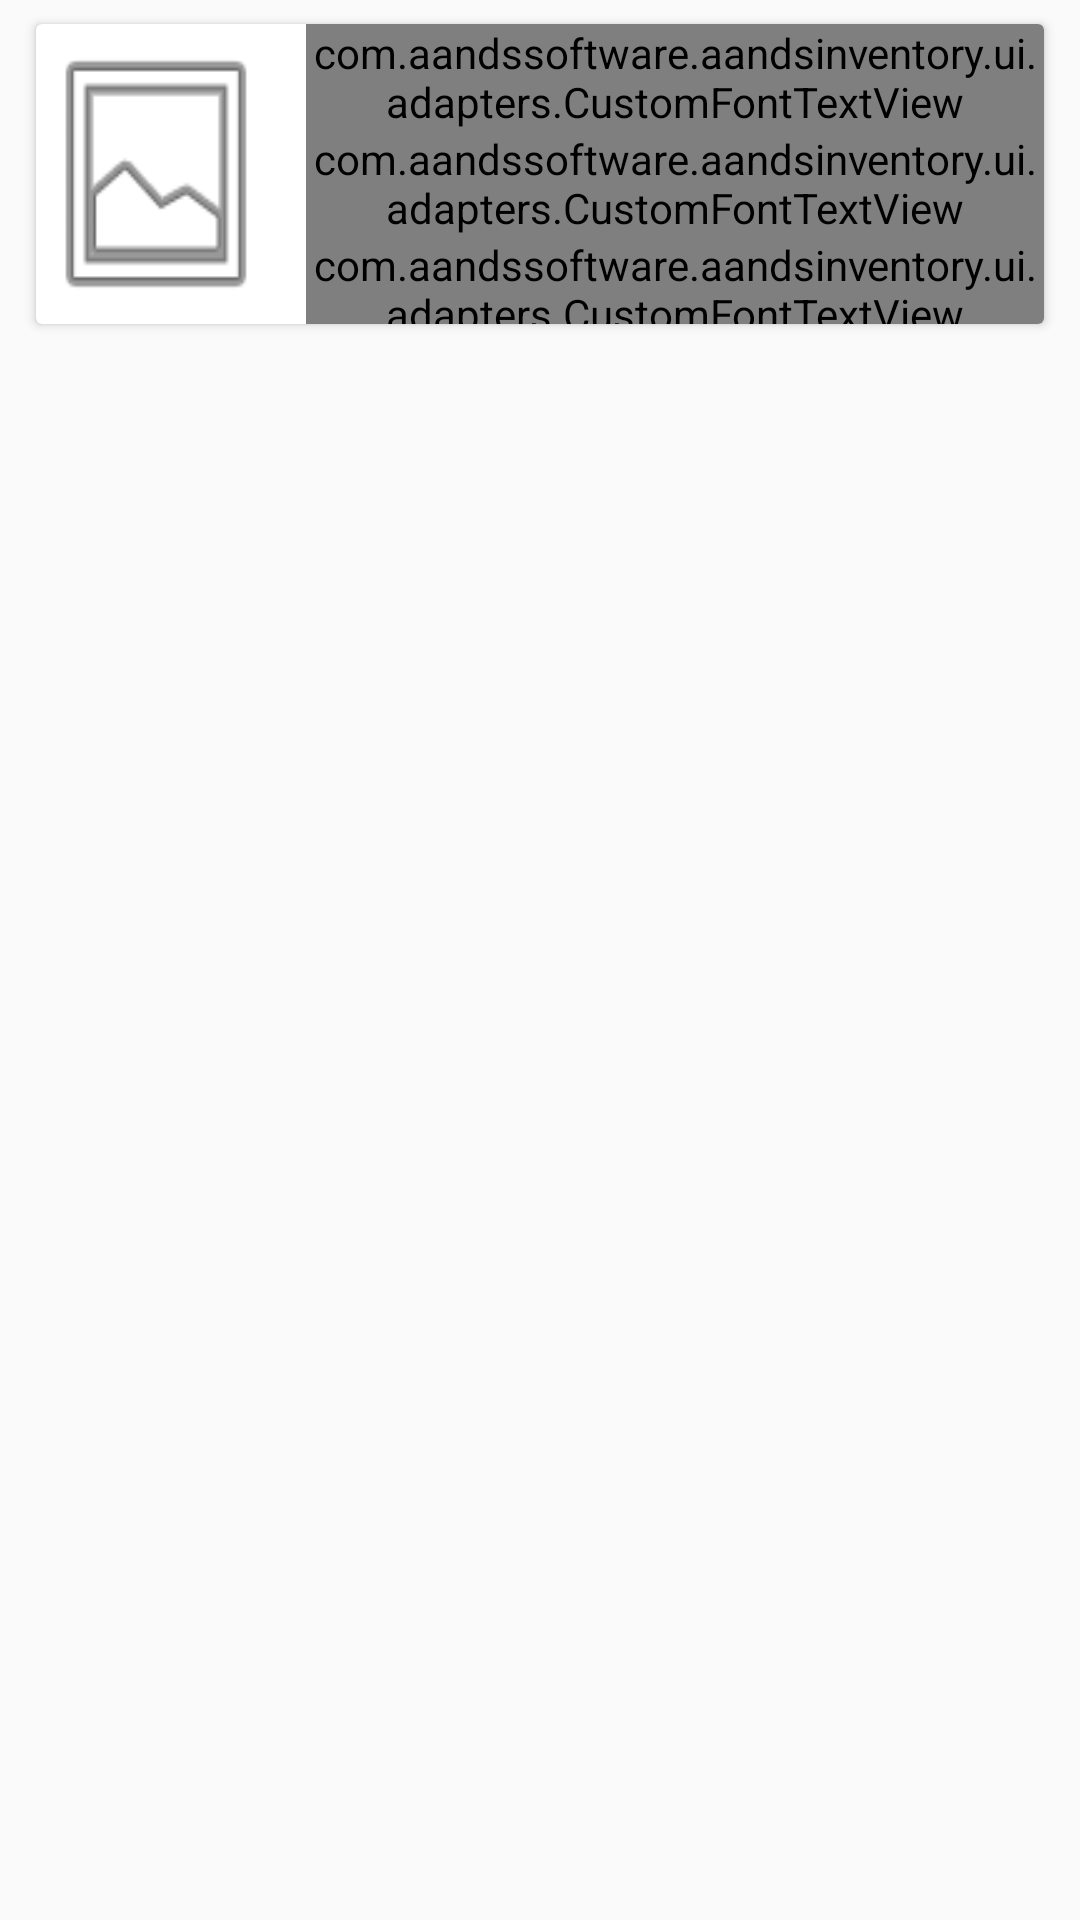

Icons on this 1080px×1920px Android screen, each with the point to tap as (x,y):
gallery: (156,174)
